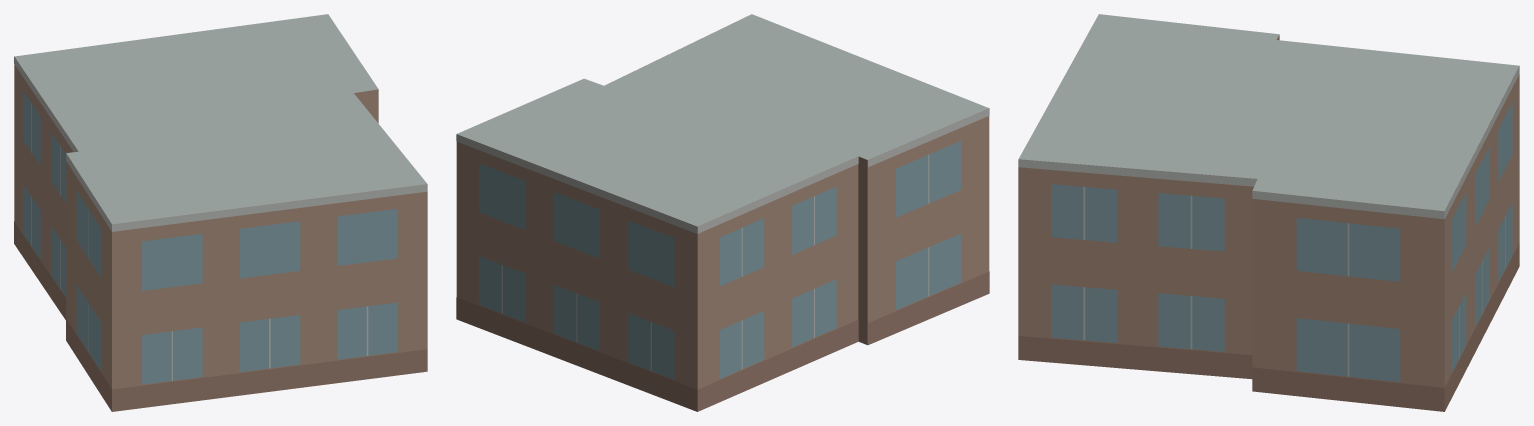
The model's file is survey-upis-32994960.glb.
3 renders of one model, left to right at view 1: azimuth 30°, elevation 25°; view 2: azimuth 150°, elevation 25°; view 3: azimuth 270°, elevation 25°, orthographic. The views are drawn at different scales.
Parts seen in each view (by area): view 1: survey-upis-32994960.tmp; view 2: survey-upis-32994960.tmp; view 3: survey-upis-32994960.tmp.
Part boxes in pixels (box(x1,y1,x2,y2)): survey-upis-32994960.tmp: box(14, 14, 427, 411); survey-upis-32994960.tmp: box(456, 14, 989, 411); survey-upis-32994960.tmp: box(1018, 14, 1519, 411).
Size of the model in its own units: 12.88 by 6.1 by 13.82.
